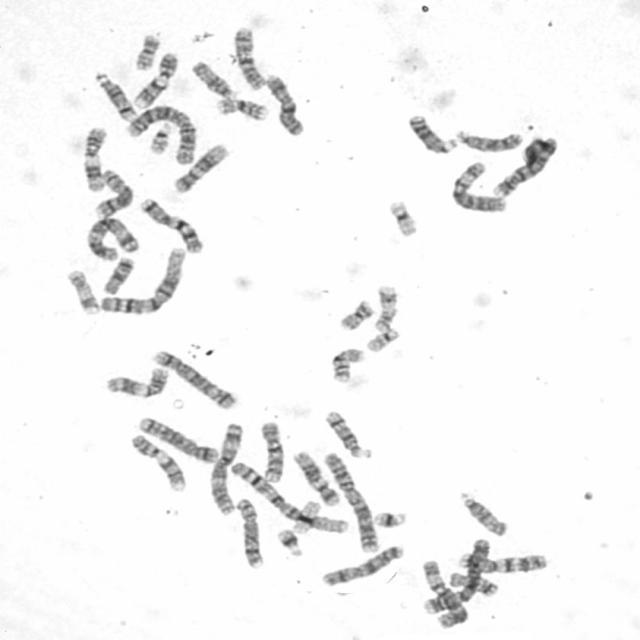A1: (227, 459, 350, 535), (98, 246, 187, 316)
A2: (321, 452, 380, 554), (124, 104, 196, 165)
A3: (208, 421, 244, 516), (85, 216, 141, 262)
B4: (422, 538, 491, 616), (490, 136, 560, 198)
B5: (151, 349, 237, 411), (136, 416, 220, 466)
C10: (231, 25, 268, 93), (258, 422, 286, 485)
C11: (104, 366, 169, 399), (80, 127, 109, 194)
C12: (172, 144, 230, 196), (292, 448, 342, 508)
C6: (421, 559, 469, 629), (450, 160, 510, 215)
C7: (138, 197, 205, 255), (457, 551, 548, 574)
C8: (234, 496, 266, 570), (92, 167, 135, 220)
C9: (127, 432, 187, 492), (132, 51, 180, 110)
D13: (406, 112, 460, 154), (455, 130, 524, 153)
D14: (324, 407, 374, 461), (93, 69, 139, 124)
D15: (456, 490, 509, 537), (191, 60, 240, 99)
E16: (215, 96, 269, 123), (329, 348, 366, 385)
E17: (65, 269, 100, 316), (372, 286, 401, 333)
E18: (446, 570, 498, 600), (102, 257, 135, 297)
F19: (387, 200, 422, 239), (290, 498, 322, 536)
F20: (338, 299, 376, 333), (134, 32, 162, 71)
G21: (276, 528, 306, 558), (371, 509, 408, 529)
G22: (364, 328, 401, 353), (146, 121, 172, 155)
X: (318, 544, 404, 588), (265, 72, 306, 138)
